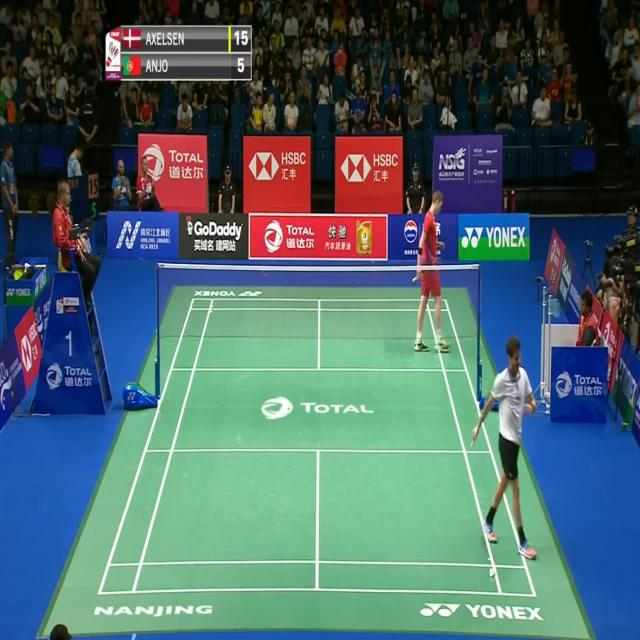Player1: (468, 334, 540, 569)
Player2: (410, 186, 457, 364)
